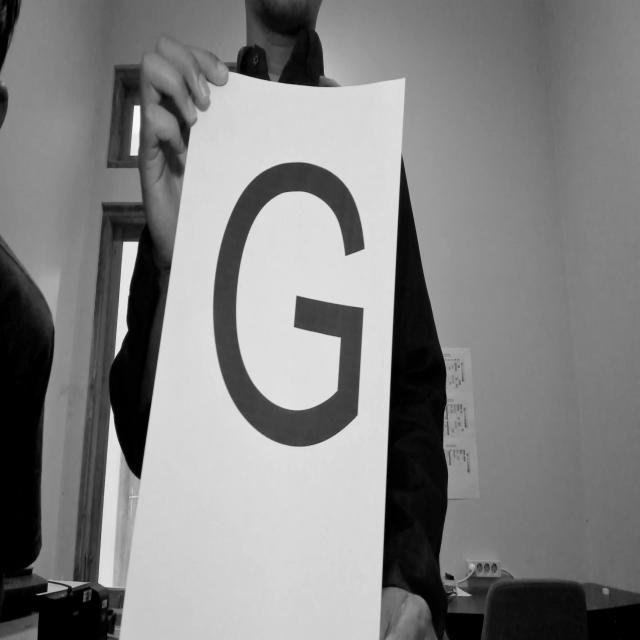g: (189, 135, 389, 482)
